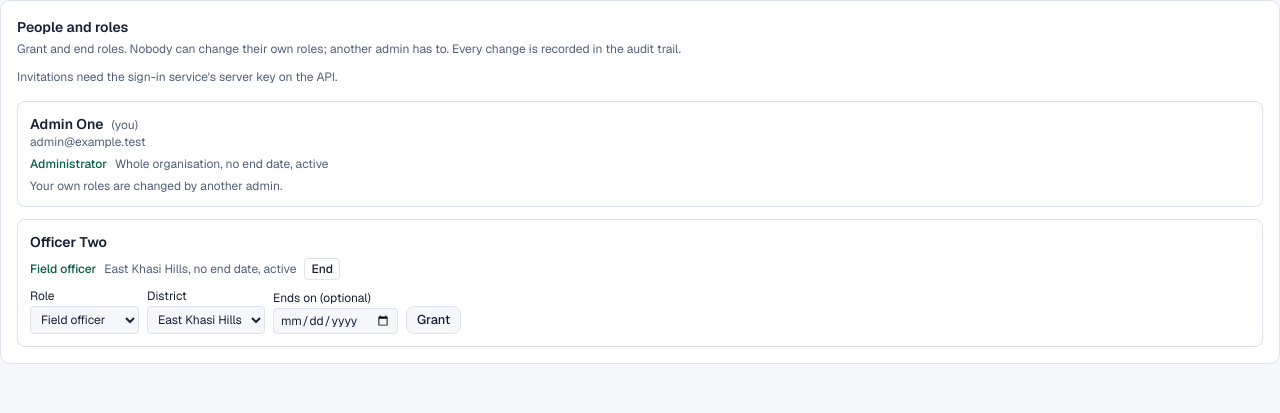
Test: people and roles in settings › says why a change was refused
Click the button "Grant": (434, 320) top-left (406, 306), bottom-right (461, 334)
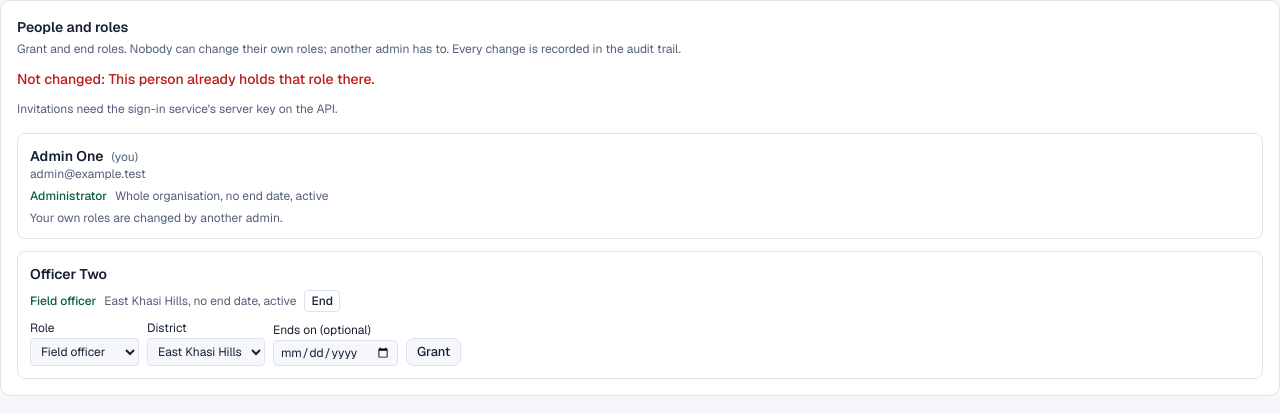
Now the text "Not changed: This person already holds that role there." is shown, box top-left (17, 70), bottom-right (374, 88)
